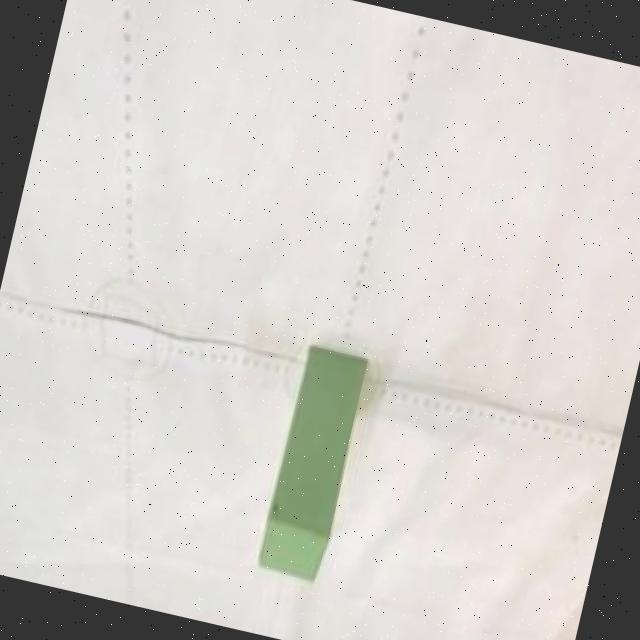greenbox: (256, 346, 370, 577)
